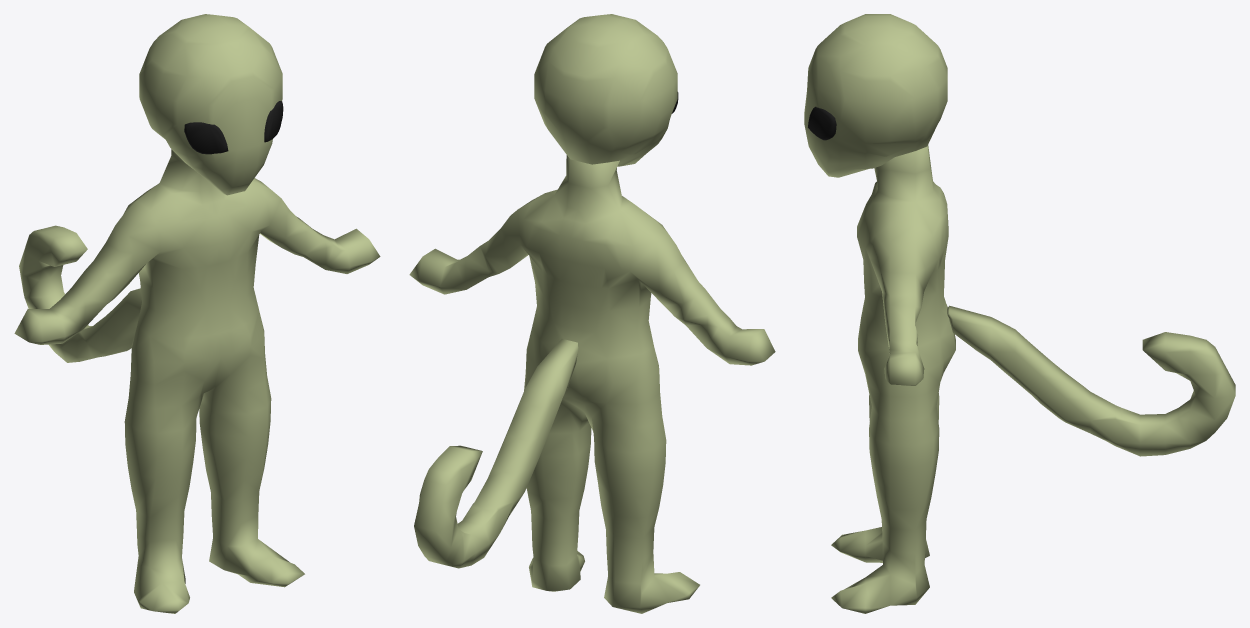
Rendered from alien.fbx.
3 views of the same model, side by side, from view 1: azimuth 30°, elevation 25°; view 2: azimuth 150°, elevation 25°; view 3: azimuth 270°, elevation 25° (orthographic).
Visible parts, largest first — view 1: Alien Body, Alien Head, Alien Tail; view 2: Alien Body, Alien Head, Alien Tail; view 3: Alien Body, Alien Head, Alien Tail.
Part boxes in pixels (x1,y1,x2,y2): Alien Body: [14, 149, 380, 613]; Alien Head: [139, 14, 283, 195]; Alien Tail: [19, 225, 141, 362]; Alien Body: [409, 155, 775, 613]; Alien Head: [534, 14, 678, 166]; Alien Tail: [414, 339, 578, 568]; Alien Body: [831, 145, 955, 613]; Alien Head: [804, 14, 947, 177]; Alien Tail: [947, 305, 1235, 456].
Size of the model in its own units: 12.34 by 13.14 by 18.76.
